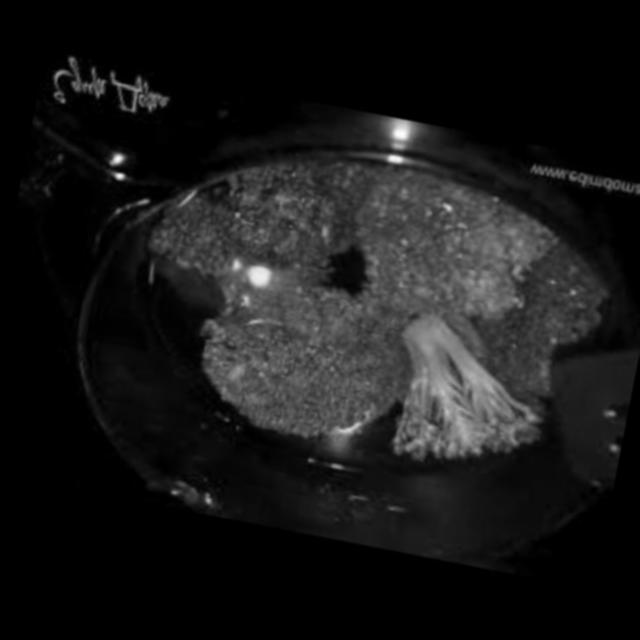broccoli: (115, 130, 612, 498)
